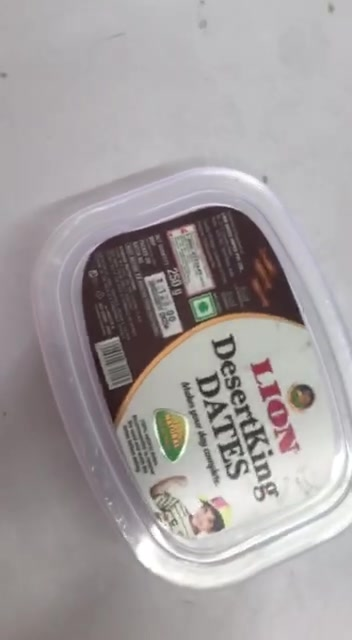Lion dates: (41, 168, 352, 587)
